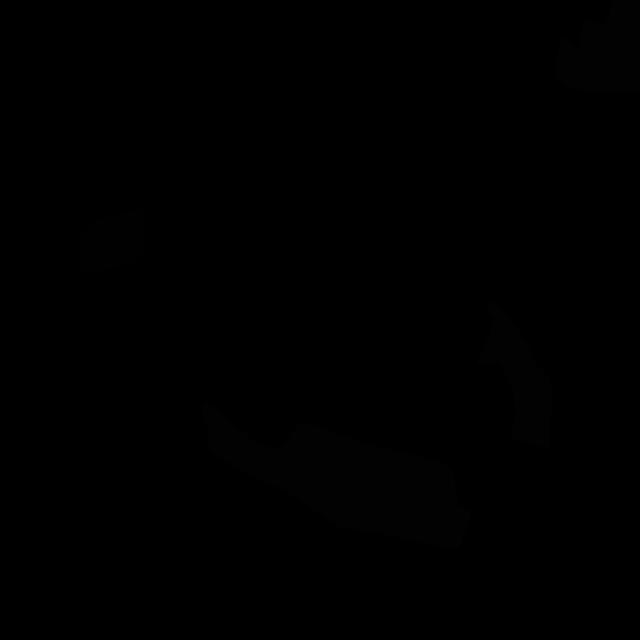cardboard: (202, 400, 471, 548), (476, 300, 554, 450), (554, 0, 640, 93)
rigid_plastic: (78, 208, 144, 272)
